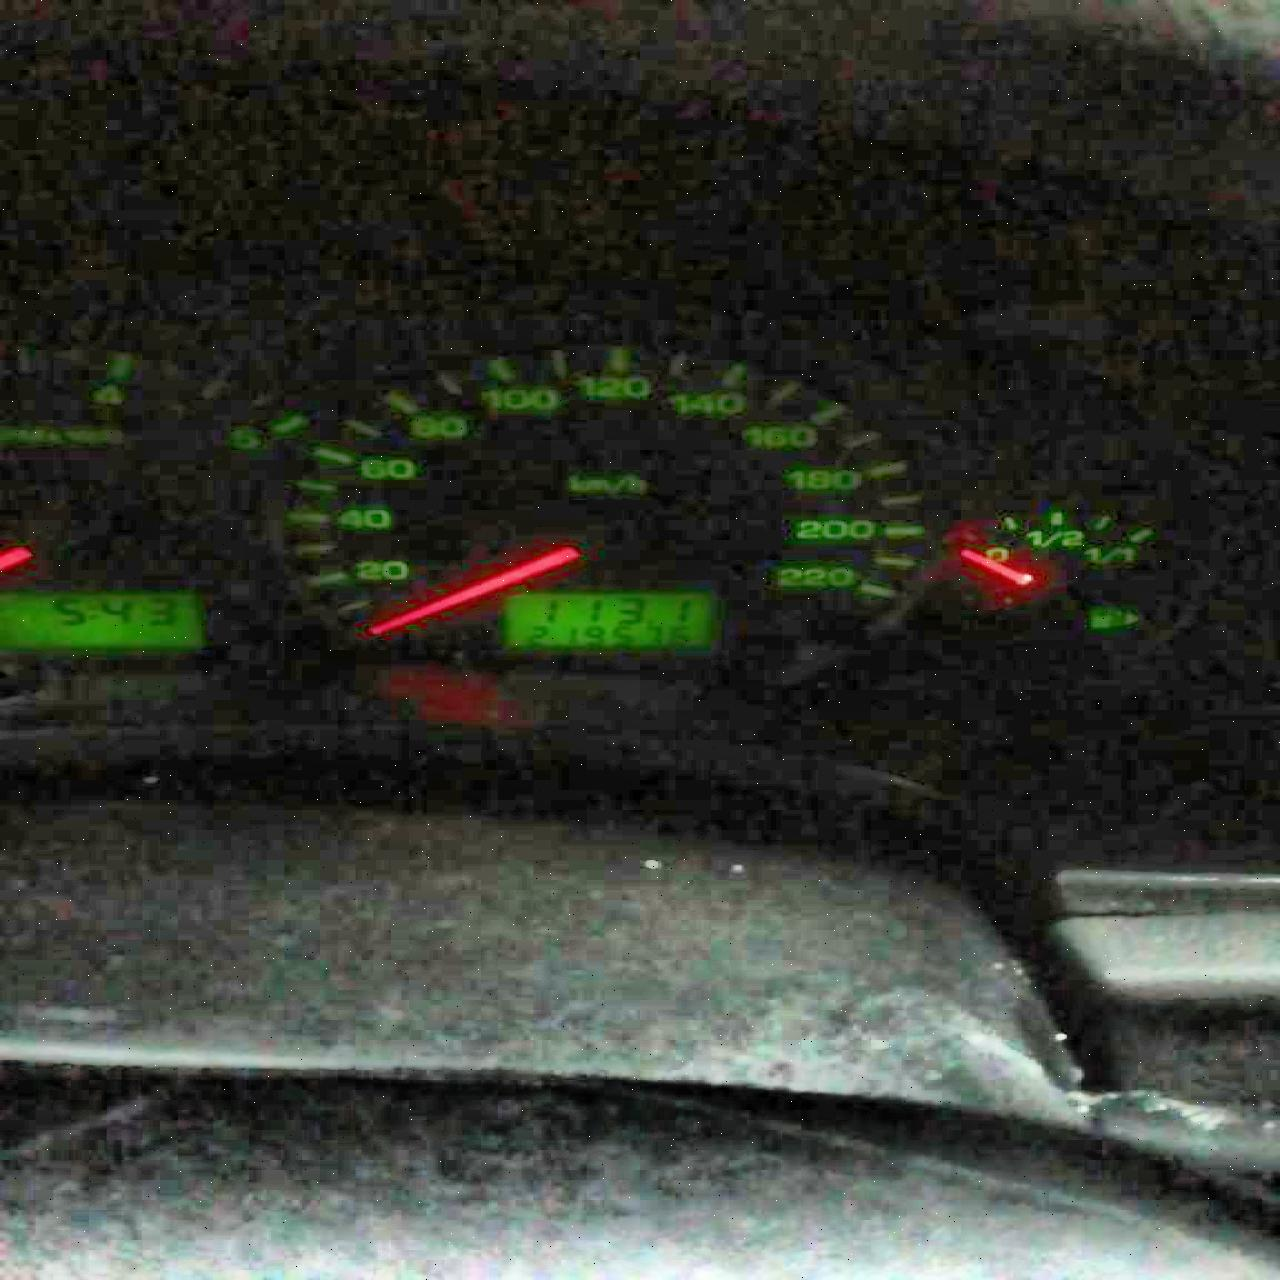-: (642, 615, 658, 625)
1: (674, 597, 694, 621), (545, 597, 563, 621), (587, 597, 602, 621), (564, 624, 578, 645)
2: (526, 622, 553, 644)
3: (615, 595, 642, 624)
5: (611, 625, 633, 645)
6: (667, 624, 693, 644)
7: (640, 625, 665, 646)
9: (583, 624, 602, 645)
odometer: (504, 592, 714, 647)
